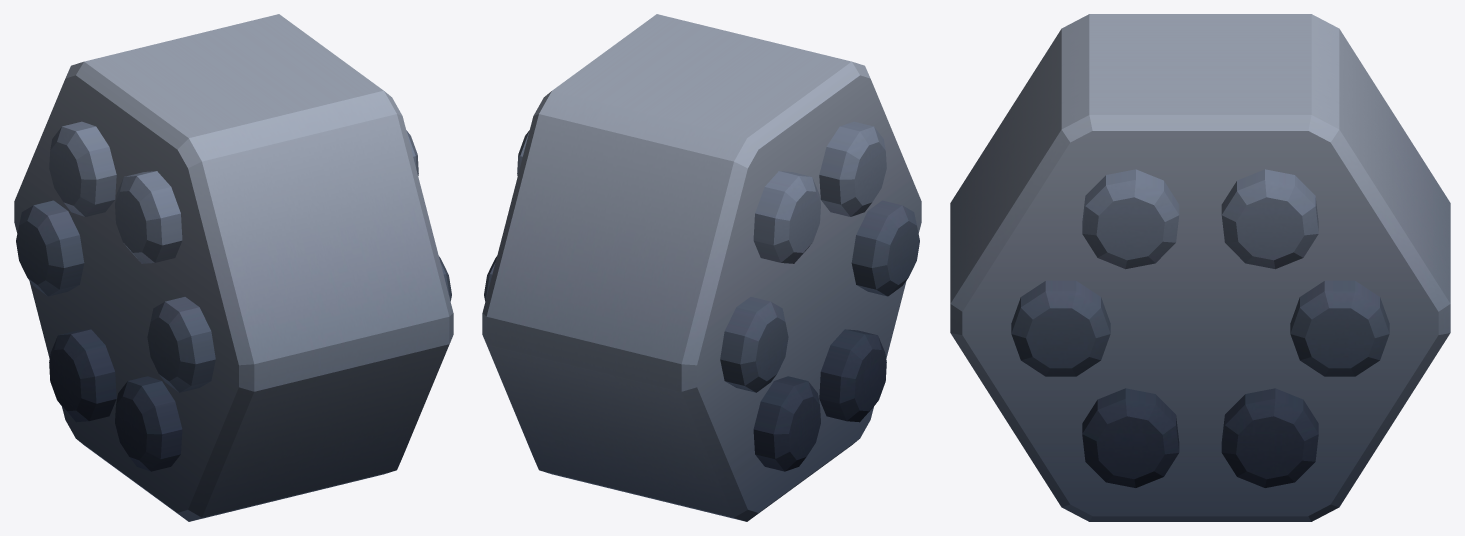
The model's file is Mag3.FBX.
The picture shows the model from 3 angles, left to right: view 1: azimuth 30°, elevation 25°; view 2: azimuth 150°, elevation 25°; view 3: azimuth 270°, elevation 25°; orthographic projection. The views are drawn at different scales.
Visible parts, largest first — view 1: Cylinder009; view 2: Cylinder009; view 3: Cylinder009.
Boxes of the visible parts, left/top/right/bottom form: Cylinder009: left=14, top=14, right=453, bottom=521; Cylinder009: left=482, top=14, right=921, bottom=521; Cylinder009: left=950, top=14, right=1450, bottom=521.
Size of the model in its own units: 8 by 10.79 by 12.02.
